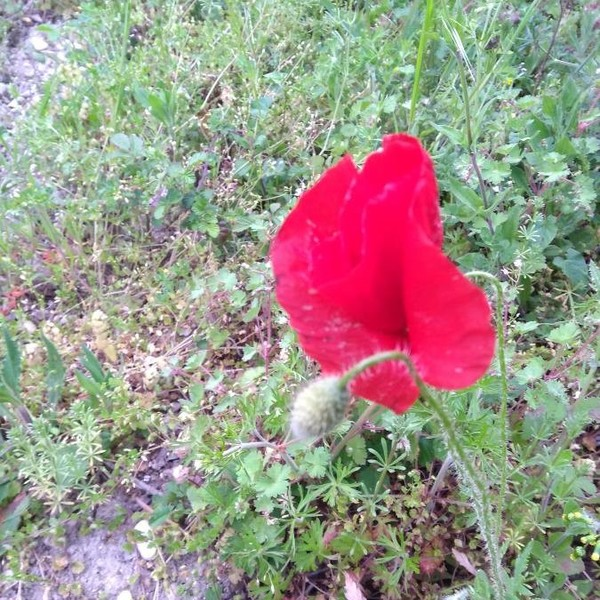obstacle: (272, 124, 548, 529)
